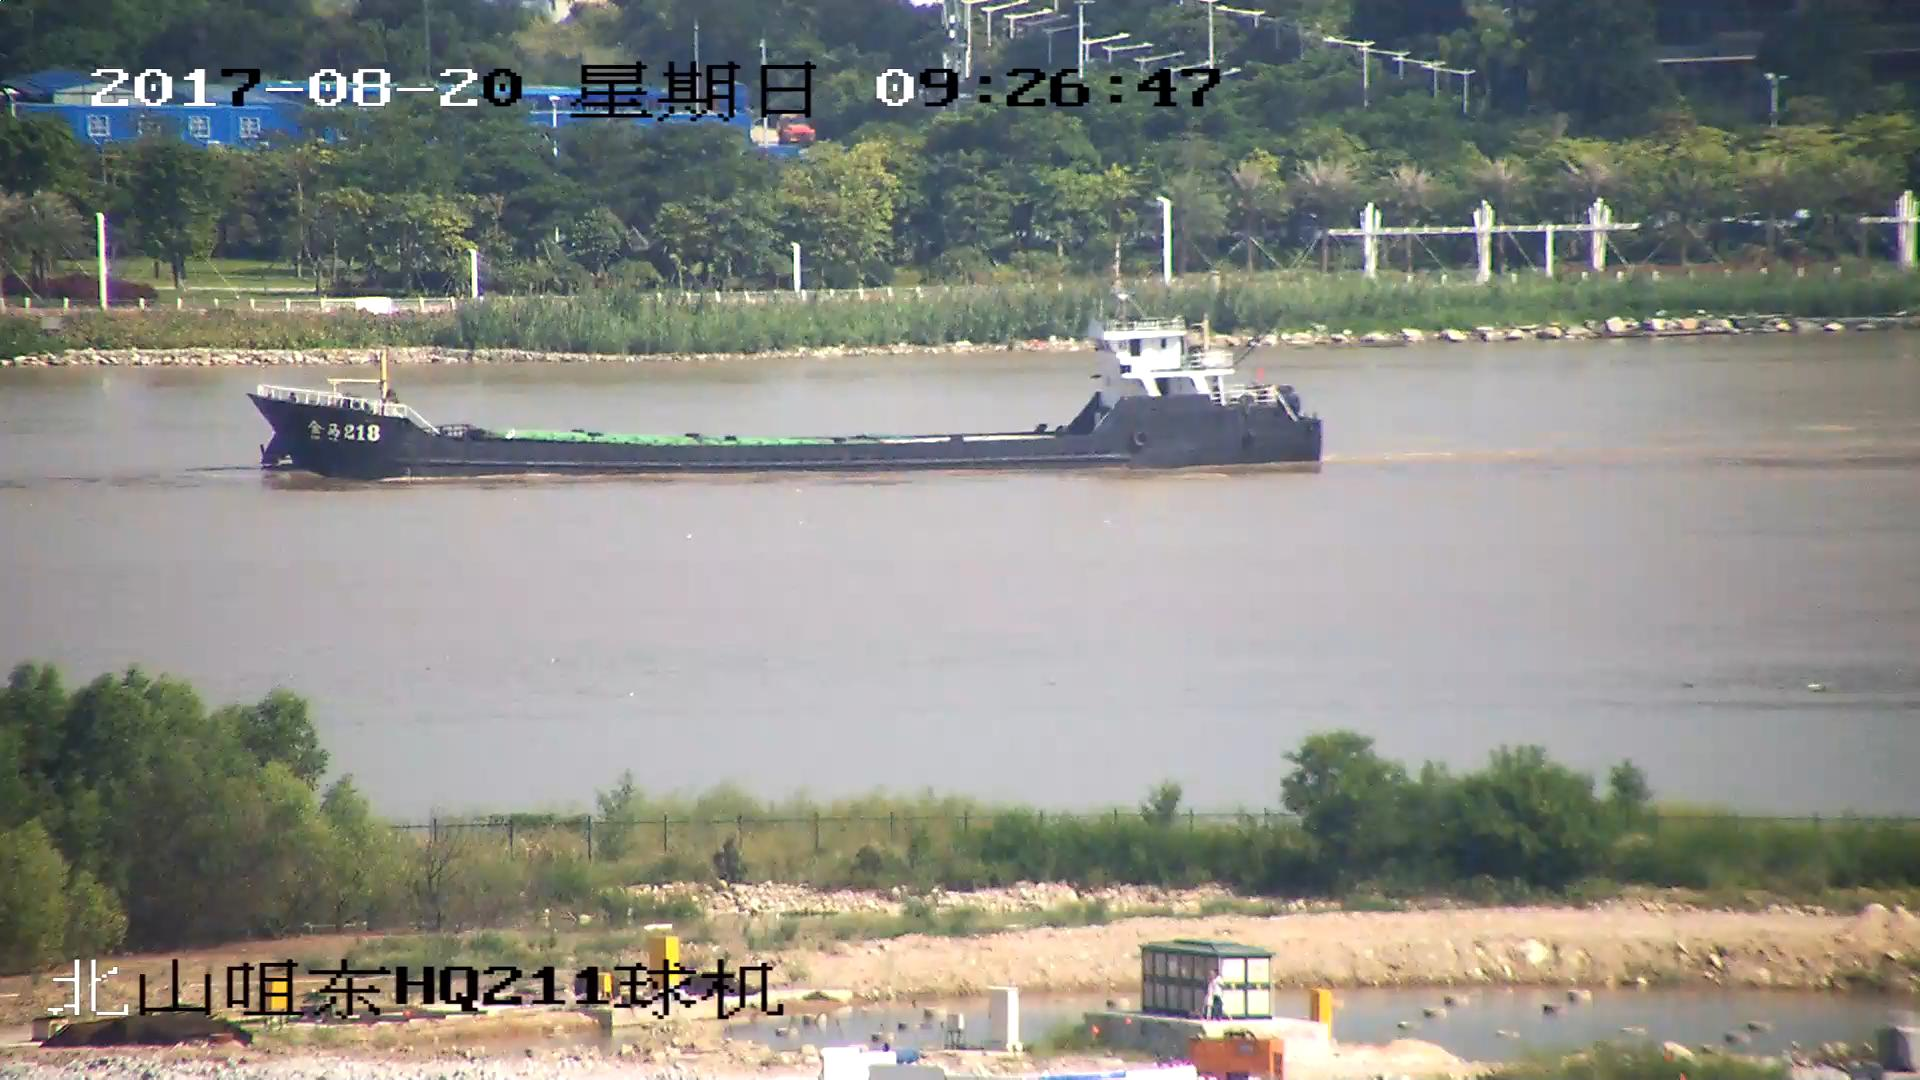general cargo ship: (243, 308, 1319, 474)
